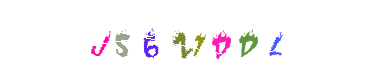1: (144, 0, 224, 80)
6: (128, 0, 208, 80)
D: (151, 0, 231, 80), (174, 0, 254, 80)
J: (109, 0, 189, 80)
L: (214, 0, 294, 80)
S: (115, 0, 195, 80)
Z: (144, 0, 224, 80)
